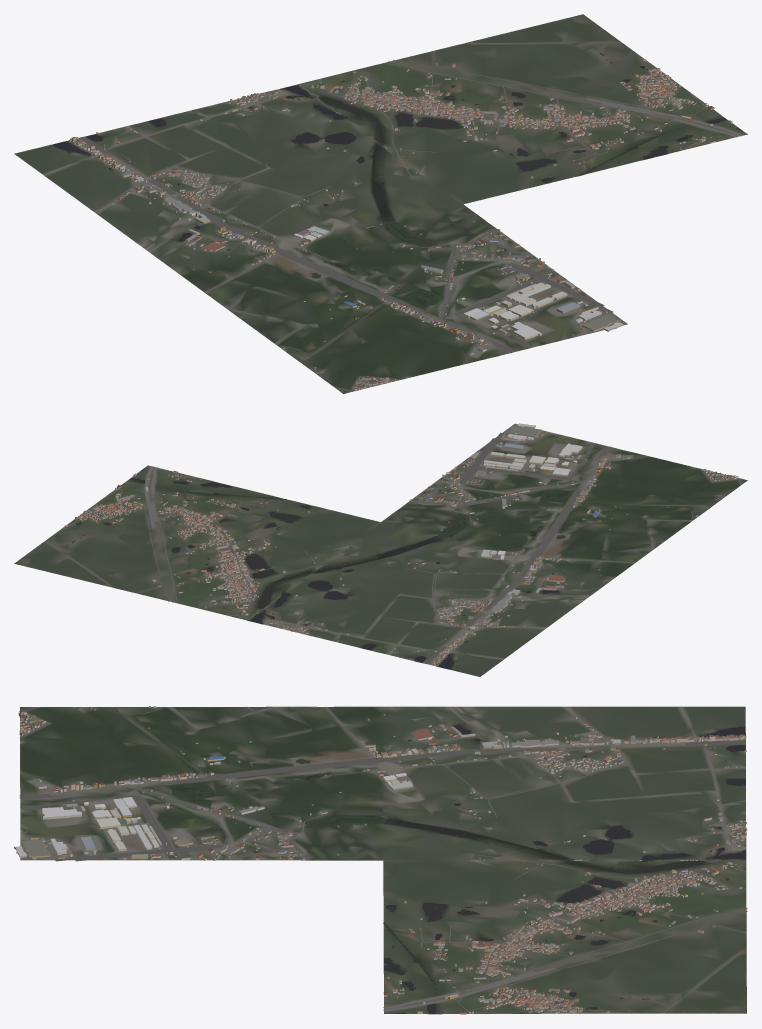
3 views of the same model, one above another, from view 1: azimuth 30°, elevation 25°; view 2: azimuth 150°, elevation 25°; view 3: azimuth 270°, elevation 25° (orthographic). The views are drawn at different scales.
Visible parts, largest first — view 1: ground, buildings, roads, water; view 2: ground, buildings, roads, water; view 3: ground, buildings, roads, water.
Boxes of the visible parts, left/top/right/bottom form: ground: left=14, top=14, right=747, bottom=393; buildings: left=68, top=59, right=732, bottom=391; roads: left=43, top=42, right=743, bottom=391; water: left=52, top=53, right=743, bottom=393; ground: left=14, top=423, right=747, bottom=676; buildings: left=65, top=423, right=738, bottom=665; roads: left=45, top=432, right=740, bottom=664; water: left=72, top=449, right=746, bottom=669; ground: left=20, top=706, right=746, bottom=1014; buildings: left=14, top=706, right=747, bottom=1014; roads: left=19, top=706, right=747, bottom=1013; water: left=20, top=707, right=745, bottom=1013.
Size of the model in its own units: 2815 by 26.3 by 2835.
